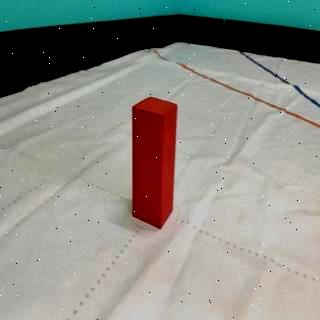redbox: (132, 94, 178, 230)
